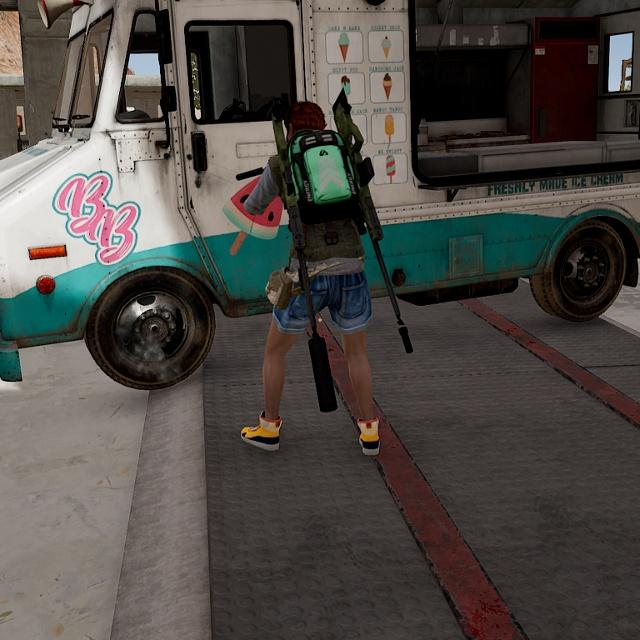head: (281, 94, 334, 146)
people: (237, 91, 397, 459)
